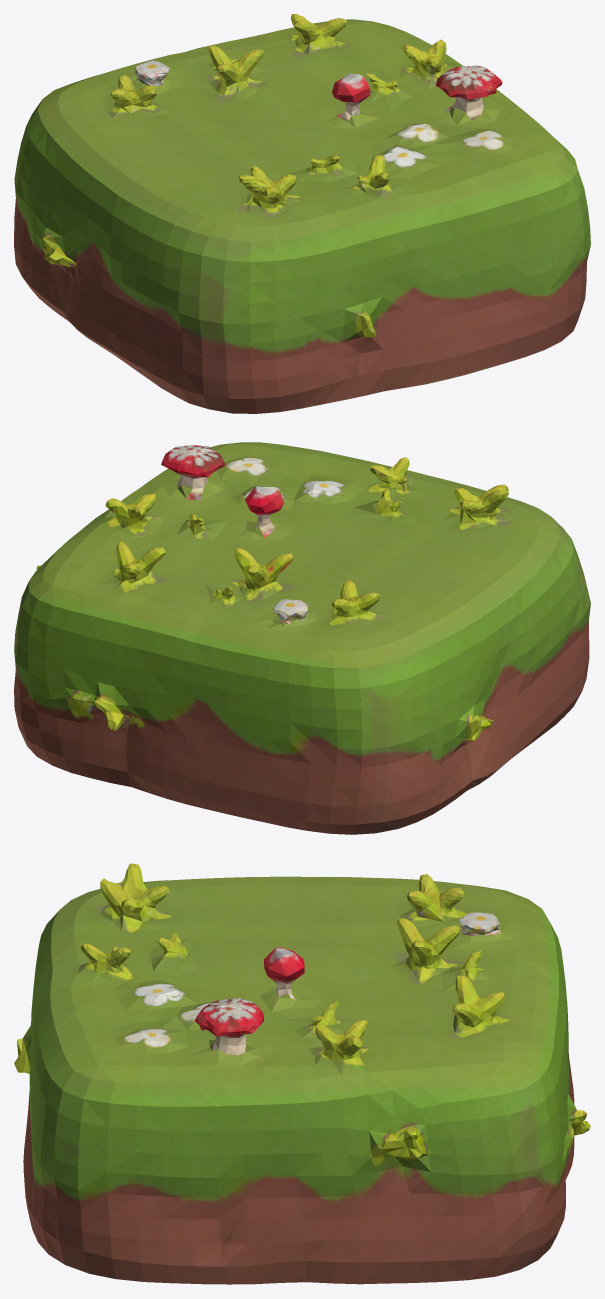
Rendered from Stage_03_Ground_Grass_002.fbx.
3 renders of one model, top to bottom at view 1: azimuth 30°, elevation 25°; view 2: azimuth 150°, elevation 25°; view 3: azimuth 270°, elevation 25°, orthographic. The views are drawn at different scales.
Parts seen in each view (by area): view 1: Stage_03_Ground_Grass_002; view 2: Stage_03_Ground_Grass_002; view 3: Stage_03_Ground_Grass_002.
Boxes of the visible parts, bbox=[...] form: Stage_03_Ground_Grass_002: bbox=[14, 14, 590, 413]; Stage_03_Ground_Grass_002: bbox=[14, 442, 590, 834]; Stage_03_Ground_Grass_002: bbox=[14, 863, 590, 1284].
Bounding box in the file's own units: 101 × 47.61 × 102.
